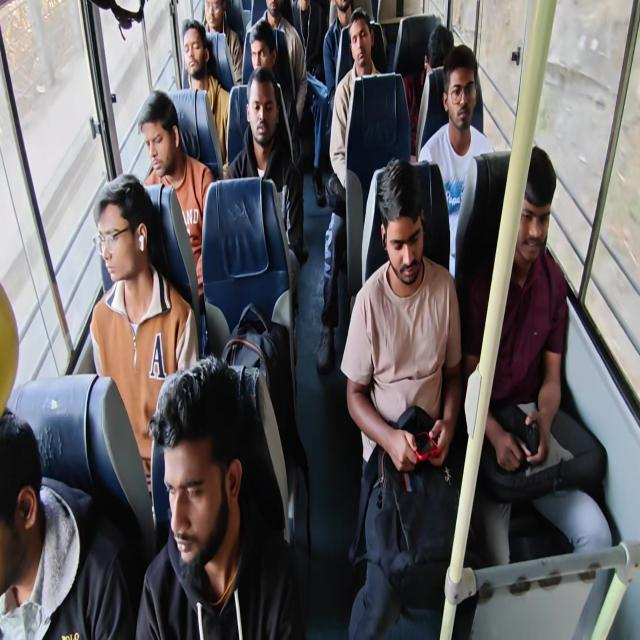person: (340, 157, 478, 638), (460, 143, 613, 570), (135, 354, 303, 638), (89, 173, 200, 512), (0, 408, 134, 638), (316, 7, 384, 372), (225, 66, 308, 289), (417, 44, 495, 279), (137, 89, 215, 303), (245, 20, 301, 166), (290, 0, 329, 205), (181, 19, 230, 167), (404, 23, 454, 156), (201, 0, 243, 85), (322, 1, 353, 108), (291, 0, 328, 81)
